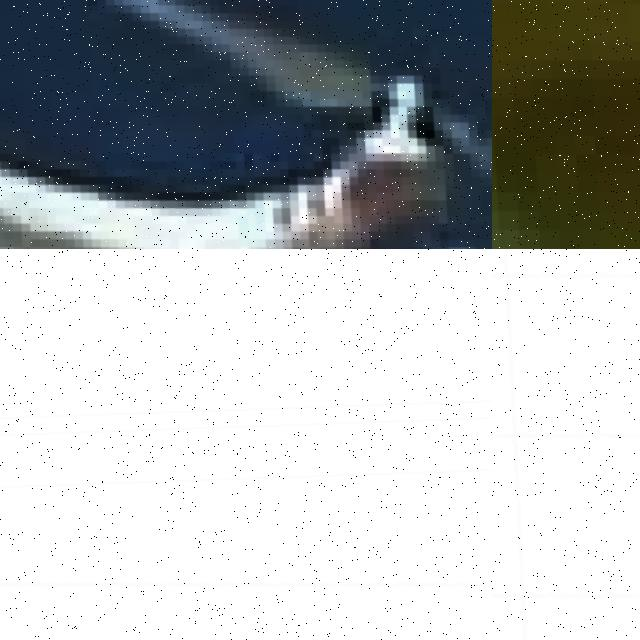drone: (0, 0, 492, 249), (0, 490, 492, 640), (492, 249, 640, 640), (492, 0, 640, 249)
